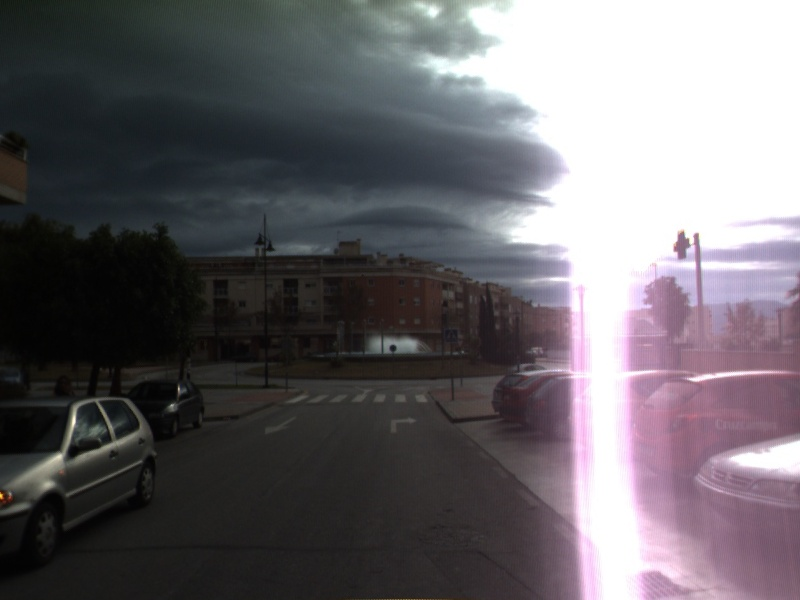RIGHT: (389, 414, 419, 435)
